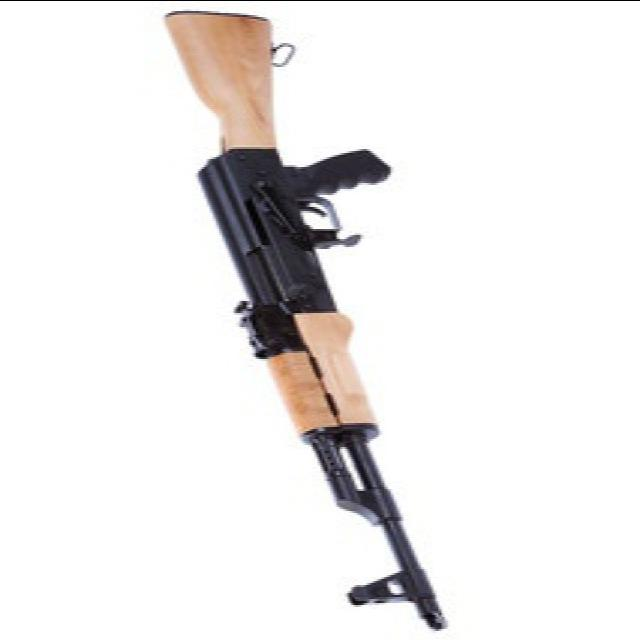rifle: (156, 5, 453, 635)
